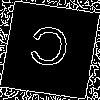C: (25, 25, 72, 77)
